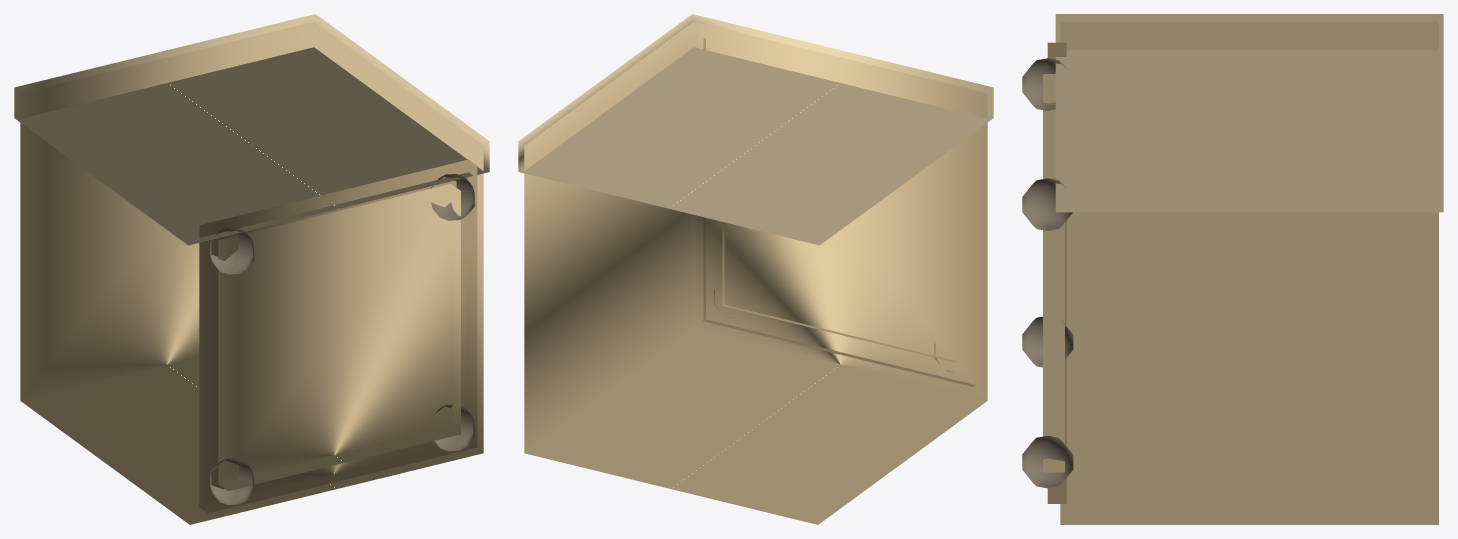
Rendered from block_brass.glb.
The picture shows the model from 3 angles, left to right: view 1: azimuth 30°, elevation 25°; view 2: azimuth 150°, elevation 25°; view 3: azimuth 270°, elevation 25°; orthographic projection. The views are drawn at different scales.
Size of the model in its own units: 24.6 by 24.4 by 26.72.
